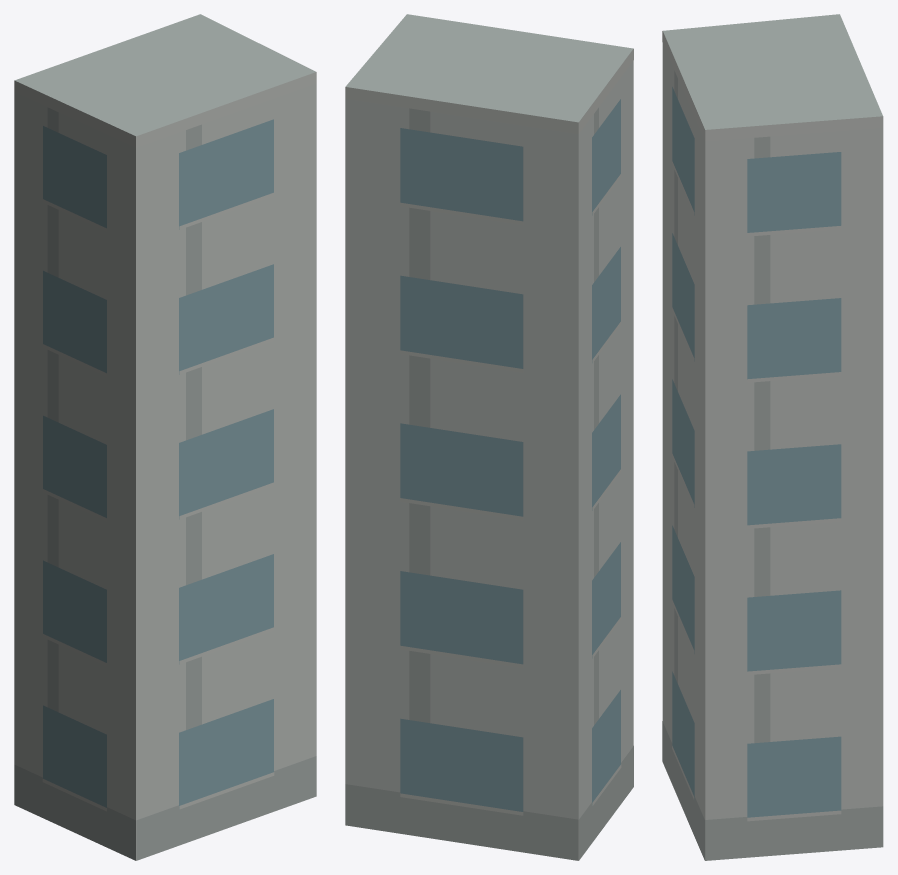
File: survey-upis-32819395.glb
3 views of the same model, side by side, from view 1: azimuth 30°, elevation 25°; view 2: azimuth 150°, elevation 25°; view 3: azimuth 270°, elevation 25° (orthographic).
Parts seen in each view (by area): view 1: survey-upis-32819395.tmp; view 2: survey-upis-32819395.tmp; view 3: survey-upis-32819395.tmp.
Part boxes in pixels (bbox=[...]): survey-upis-32819395.tmp: bbox=[14, 14, 316, 860]; survey-upis-32819395.tmp: bbox=[345, 14, 633, 860]; survey-upis-32819395.tmp: bbox=[662, 14, 883, 860].
Size of the model in its own units: 5.19 by 15.25 by 4.18.
